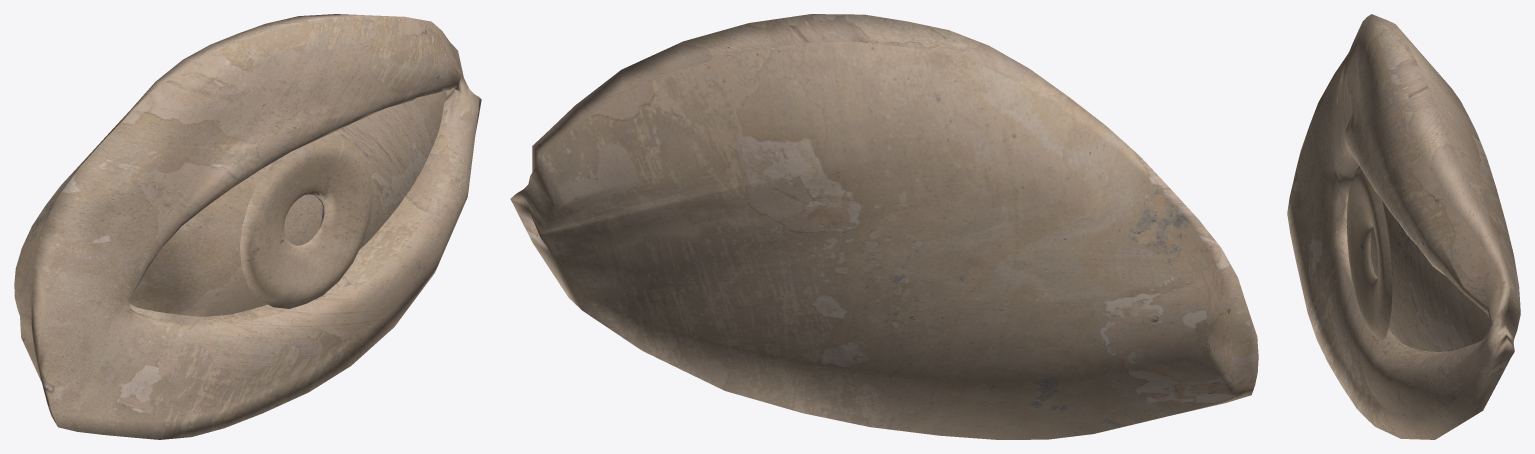
Rendered from eye-R.fbx.
The picture shows the model from 3 angles, left to right: view 1: azimuth 30°, elevation 25°; view 2: azimuth 150°, elevation 25°; view 3: azimuth 270°, elevation 25°; orthographic projection. The views are drawn at different scales.
Visible parts, largest first — view 1: EyeR; view 2: EyeR; view 3: EyeR.
Part boxes in pixels (box(x1,y1,x2,y2)): EyeR: box(14, 14, 481, 439); EyeR: box(510, 14, 1258, 439); EyeR: box(1287, 14, 1520, 439).
Size of the model in its own units: 3.53 by 2.23 by 1.35.
